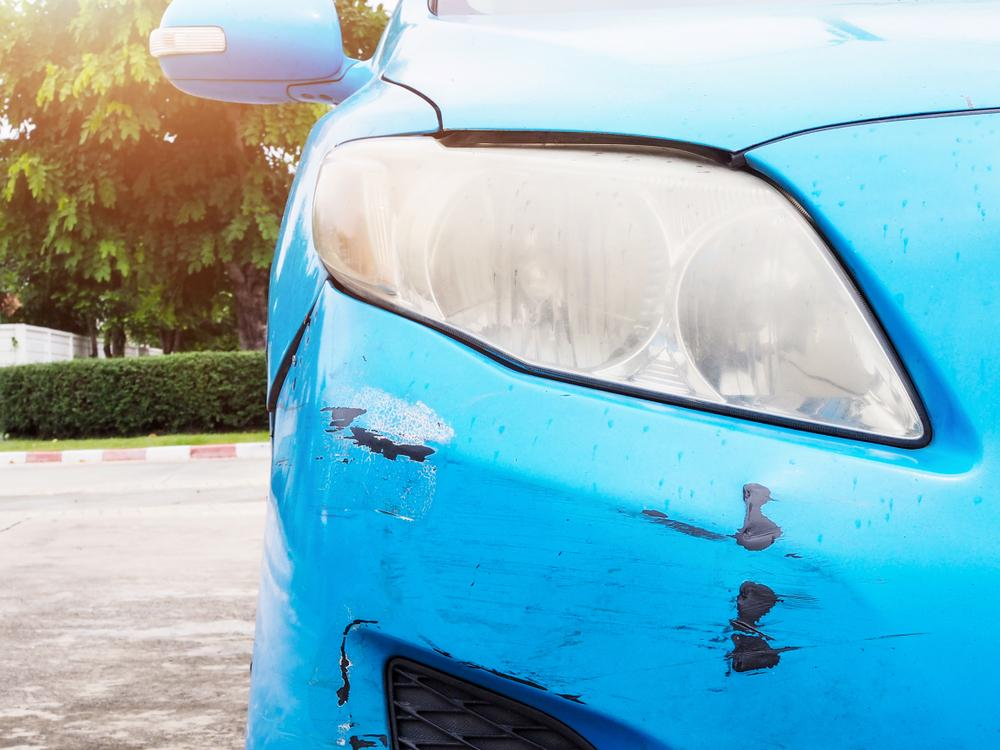scratch: (307, 385, 817, 700)
